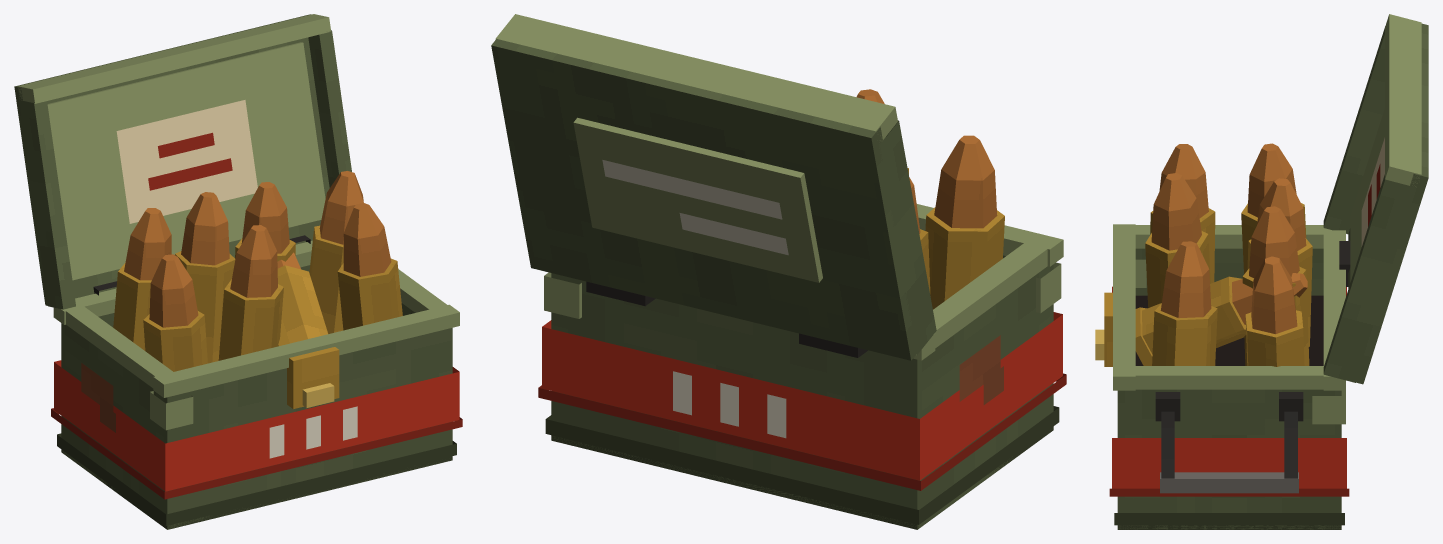
Rendered from pk_ammo.glb.
3 views of the same model, side by side, from view 1: azimuth 30°, elevation 25°; view 2: azimuth 150°, elevation 25°; view 3: azimuth 270°, elevation 25° (orthographic). The views are drawn at different scales.
Visible parts, largest first — view 1: pk_ammo; view 2: pk_ammo; view 3: pk_ammo.
Boxes of the visible parts, box(x1,y1,x2,y2) form: pk_ammo: box(14, 14, 462, 529); pk_ammo: box(491, 14, 1066, 529); pk_ammo: box(1095, 14, 1428, 529).
Size of the model in its own units: 0.336 by 0.3611 by 0.2979.
15 materials, 5 textured.
